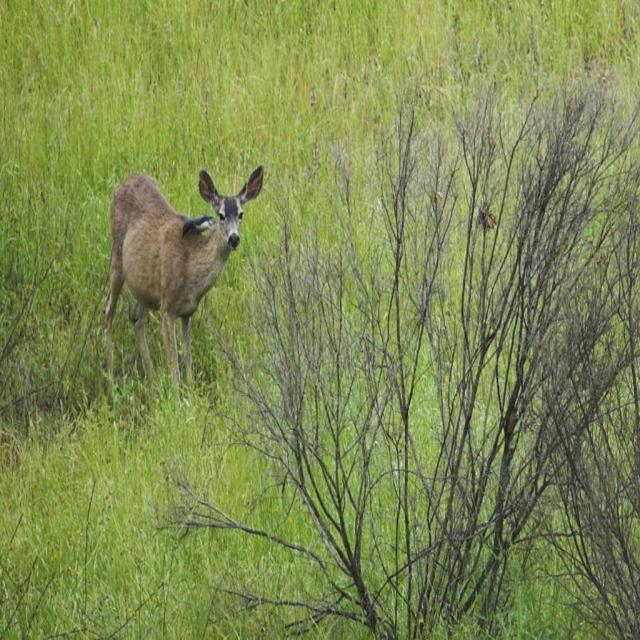Deer: (103, 170, 263, 414)
